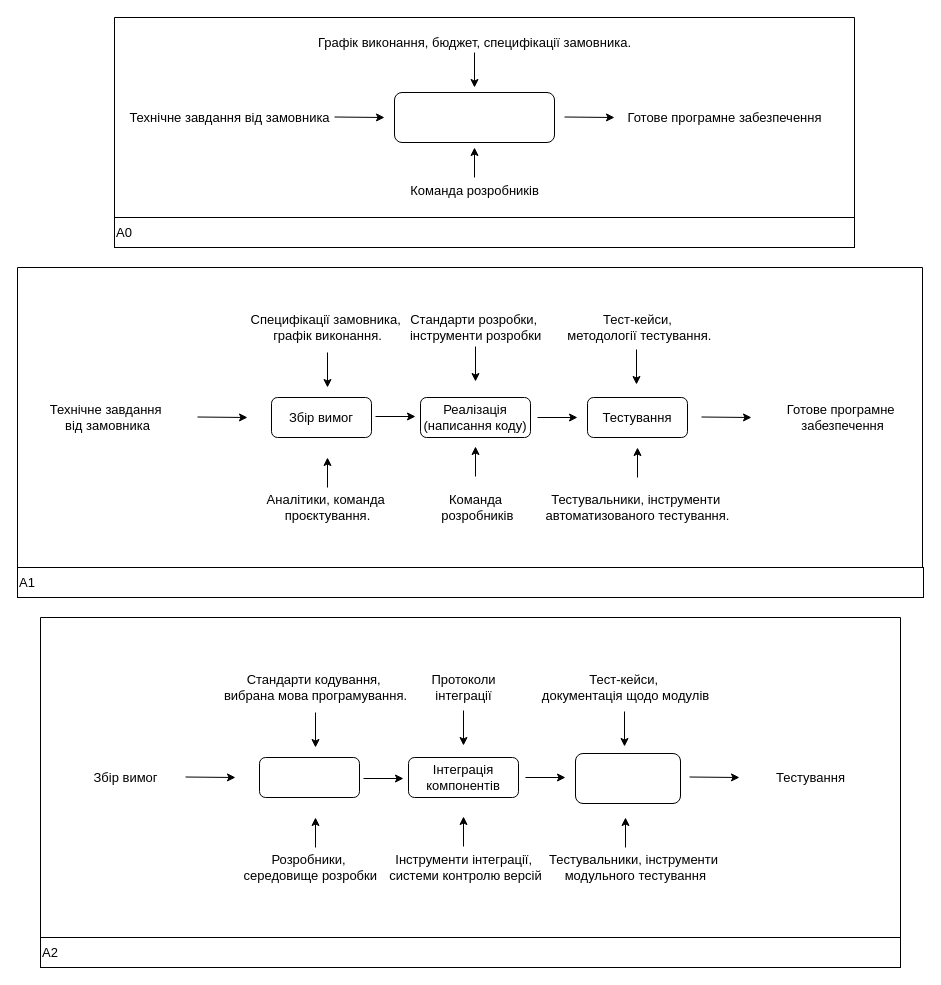
This 941x985 diagram has some shape labels left out. The shapes that lost their labels are listed below. From the top down, each one's centre as x and y in pixels, then its label:
the point at 474,117: Розробка програмного забезпечення
the point at 309,777: Написання коду
the point at 627,778: Виконання модульного тестування
